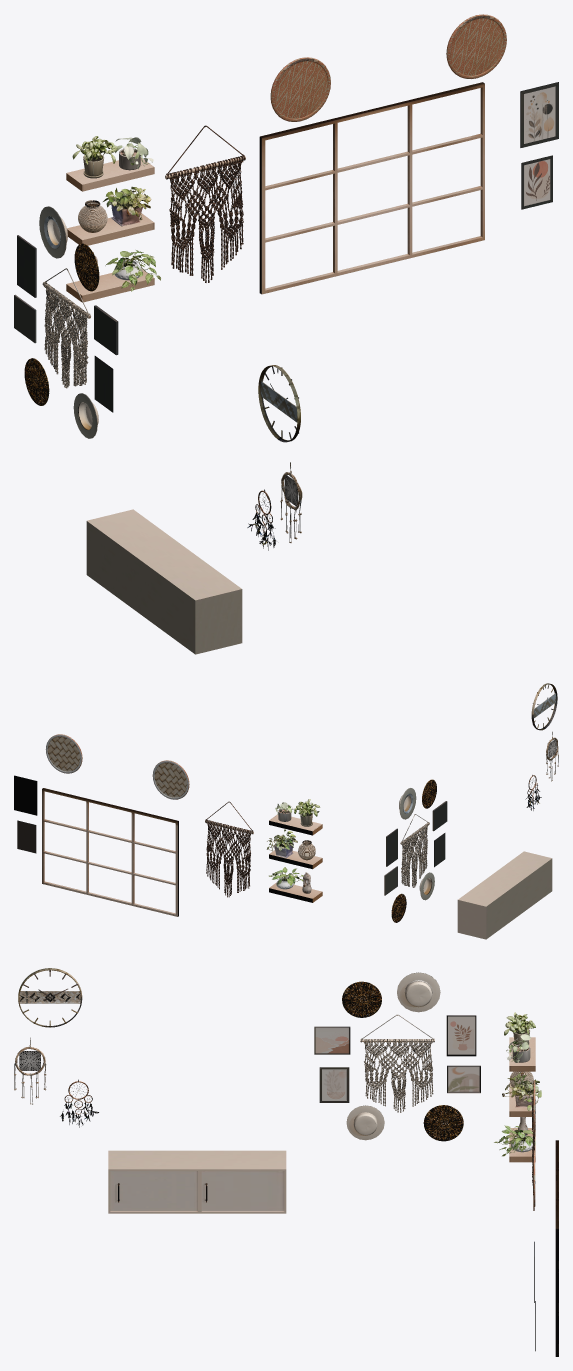
File: LightOffice3rd.glb
3 renders of one model, top to bottom at view 1: azimuth 30°, elevation 25°; view 2: azimuth 150°, elevation 25°; view 3: azimuth 270°, elevation 25°, orthographic. The views are drawn at different scales.
Visible parts, largest first — view 1: WallClock_Baked, WallCabinet_Baked, WindowFrame_Baked, BookshelfPlantPot_Baked, basilPot_Baked; view 2: WallClock_Baked, WallCabinet_Baked, WindowFrame_Baked, basilPot_Baked, BookshelfPlantPot_Baked; view 3: WallClock_Baked, WallCabinet_Baked, WindowFrame_Baked, BookshelfPlantPot_Baked, basilPot_Baked.
Boxes of the visible parts, bbox=[...] form: WallClock_Baked: bbox=[14, 14, 558, 550]; WallCabinet_Baked: bbox=[86, 509, 242, 654]; WindowFrame_Baked: bbox=[259, 82, 484, 294]; BookshelfPlantPot_Baked: bbox=[105, 250, 160, 291]; basilPot_Baked: bbox=[72, 136, 117, 178]; WallClock_Baked: bbox=[14, 683, 558, 922]; WallCabinet_Baked: bbox=[457, 851, 552, 939]; WindowFrame_Baked: bbox=[42, 788, 178, 916]; basilPot_Baked: bbox=[294, 799, 320, 826]; BookshelfPlantPot_Baked: bbox=[269, 867, 303, 889]; WallClock_Baked: bbox=[14, 968, 541, 1351]; WallCabinet_Baked: bbox=[108, 1150, 286, 1213]; WindowFrame_Baked: bbox=[555, 1140, 558, 1356]; BookshelfPlantPot_Baked: bbox=[494, 1125, 535, 1156]; basilPot_Baked: bbox=[504, 1012, 535, 1045].
Bounding box in the file's own units: 5.53 × 2.68 × 5.12.
29 materials, 29 textured.
